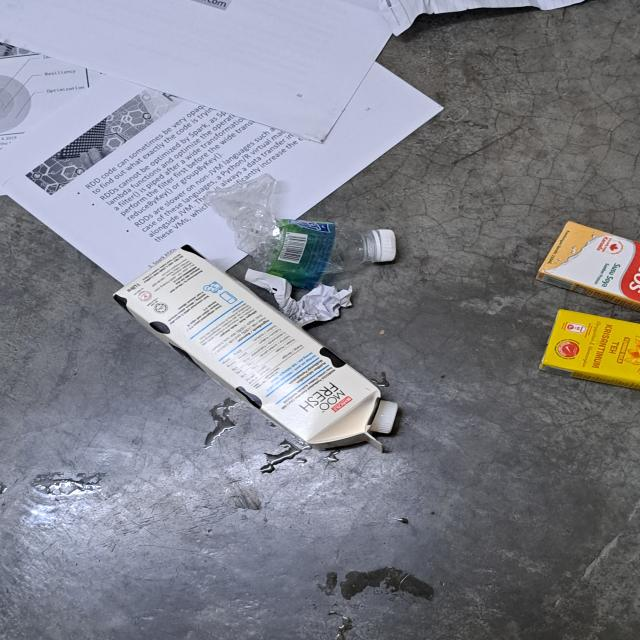drink carton: (114, 243, 386, 454), (537, 220, 640, 312), (538, 308, 640, 389)
paper: (0, 0, 640, 285), (244, 270, 354, 326)
plastic bottle: (206, 174, 377, 286)
plastic bottle cap: (370, 400, 399, 434), (374, 229, 396, 261)
